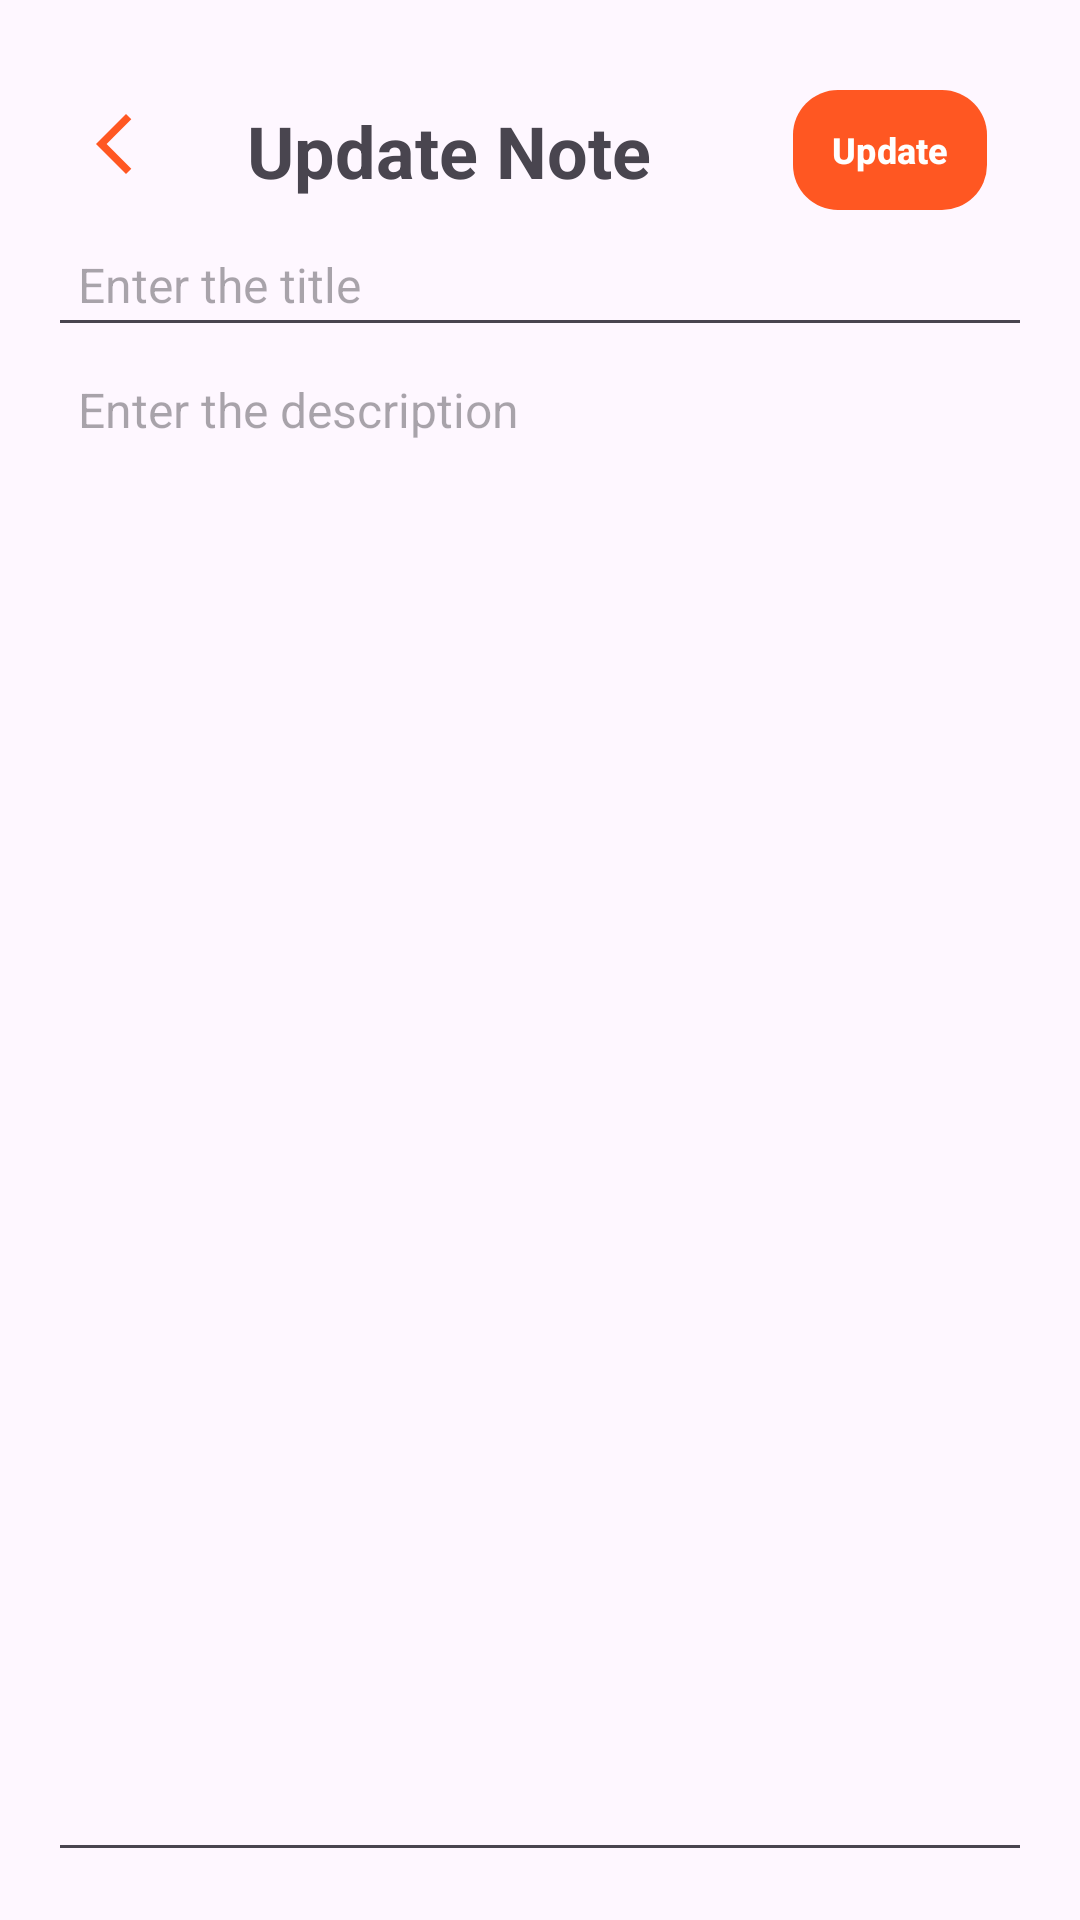

Icon click points for this 1080x1920 phone screenshot, format (x=x, y=y):
back: (x=113, y=144)
